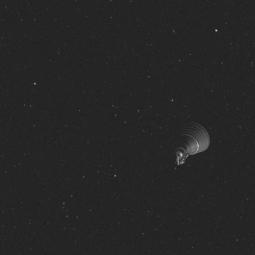debris: (154, 115, 220, 180)
